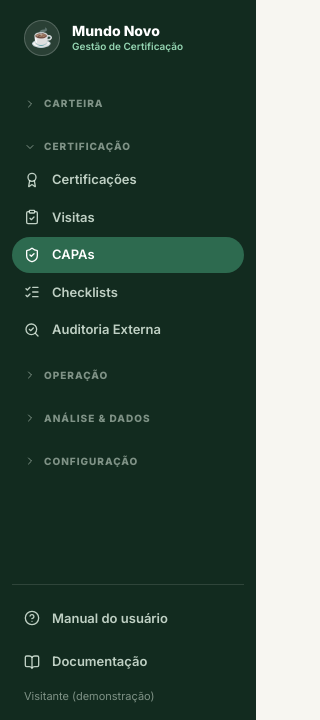
Test: BarraLateral › deixa recolher até o grupo da tela atual e guarda a escolha
This screenshot has width=320, height=720.
Click the button "Certificação": (128, 140) [12,119,244,162]
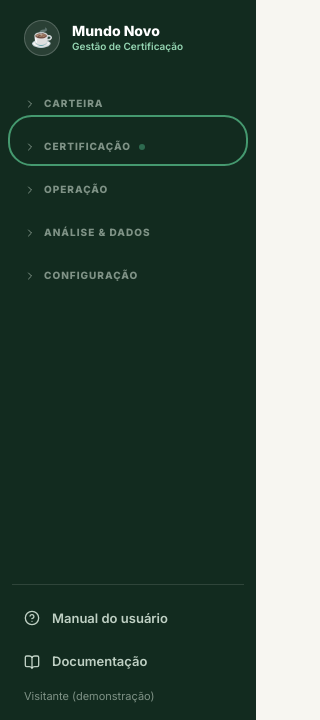
Check: the link "CAPAs" is gone
